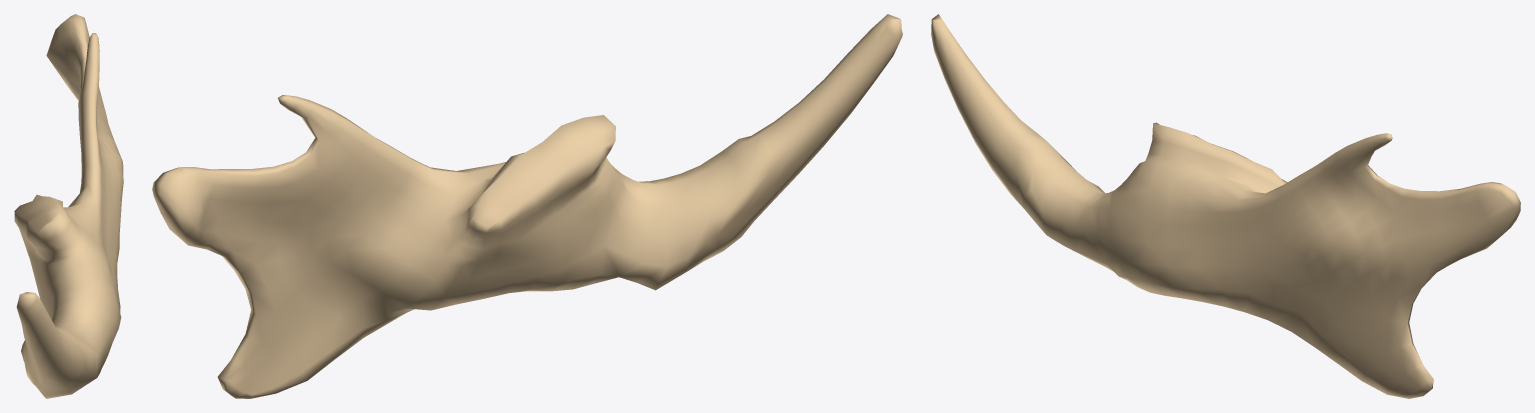
The model's file is mandibula_raton_animada_v01.fbx.
3 renders of one model, left to right at view 1: azimuth 30°, elevation 25°; view 2: azimuth 150°, elevation 25°; view 3: azimuth 270°, elevation 25°, orthographic. The views are drawn at different scales.
Visible parts, largest first — view 1: f_mandibula_raton_msh; view 2: f_mandibula_raton_msh; view 3: f_mandibula_raton_msh.
Boxes of the visible parts, <box> form: f_mandibula_raton_msh: <box>14,14,123,398</box>; f_mandibula_raton_msh: <box>152,14,902,398</box>; f_mandibula_raton_msh: <box>931,14,1520,398</box>.
Size of the model in its own units: 3.71 by 2.57 by 5.37.
